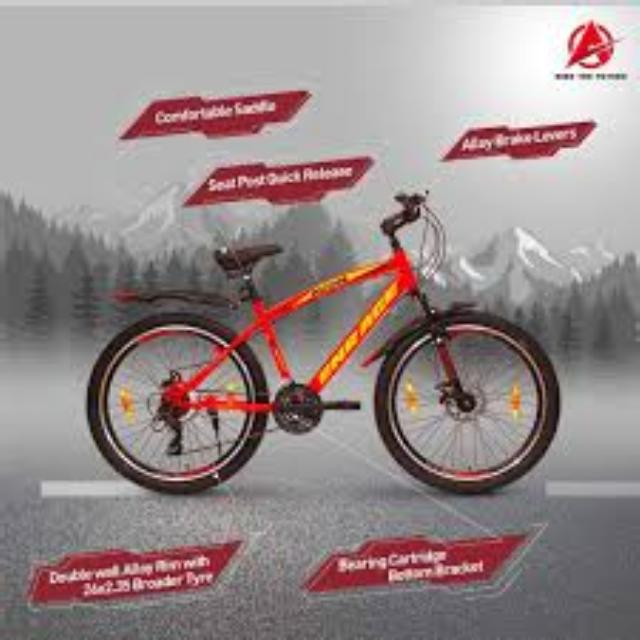obstacle: (78, 177, 618, 498)
